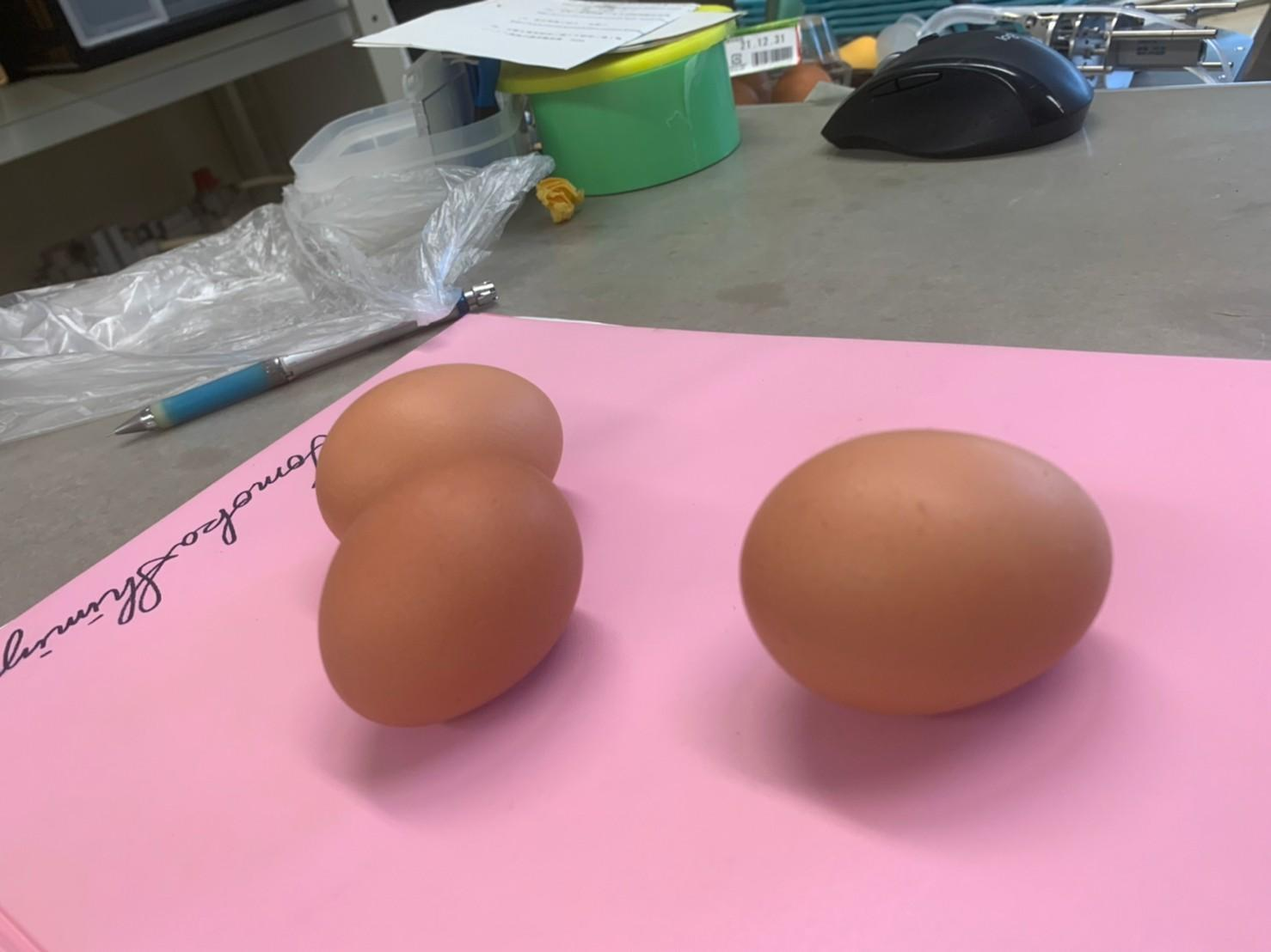egg: (730, 425, 1120, 722), (311, 451, 582, 737), (312, 355, 570, 537)
